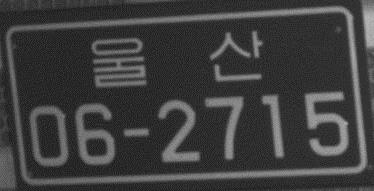-: (119, 124, 153, 141)
0: (27, 102, 70, 170)
1: (256, 91, 288, 160)
2: (156, 96, 202, 165)
5: (302, 89, 349, 158)
6: (73, 100, 115, 168)
7: (202, 93, 247, 160)
울산_D: (89, 26, 266, 90)
